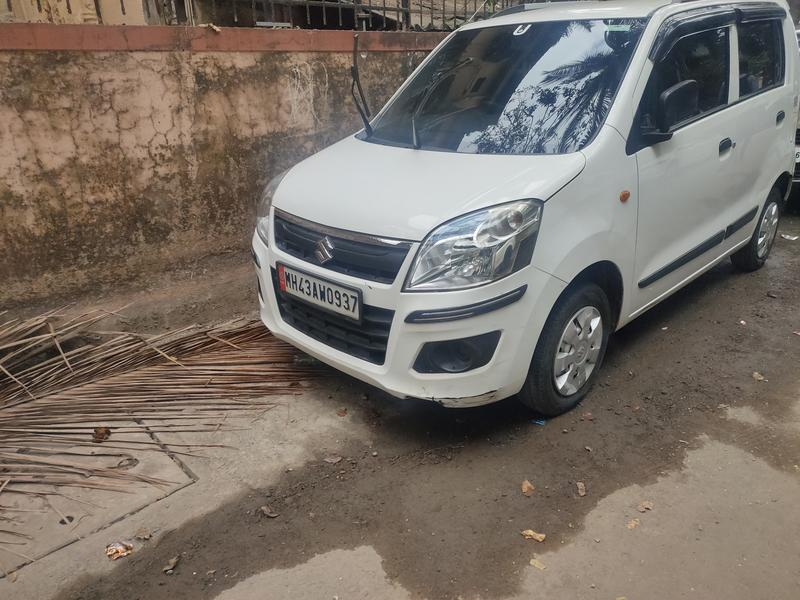license_plate: (271, 254, 372, 338)
